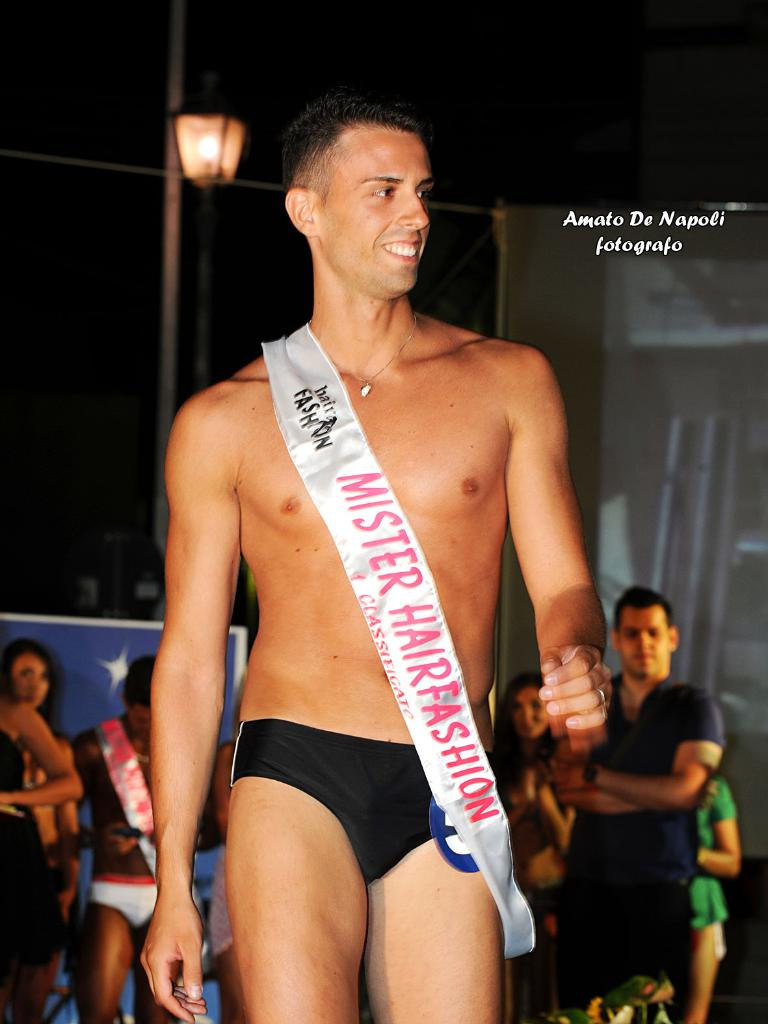Person: (0, 578, 740, 1023)
